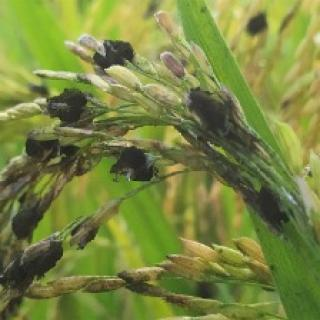Gosong-Palsu: (0, 219, 83, 293), (44, 82, 88, 124), (111, 146, 157, 180), (187, 87, 223, 129), (11, 201, 44, 237), (93, 40, 133, 69), (261, 186, 287, 230), (26, 137, 73, 160)
